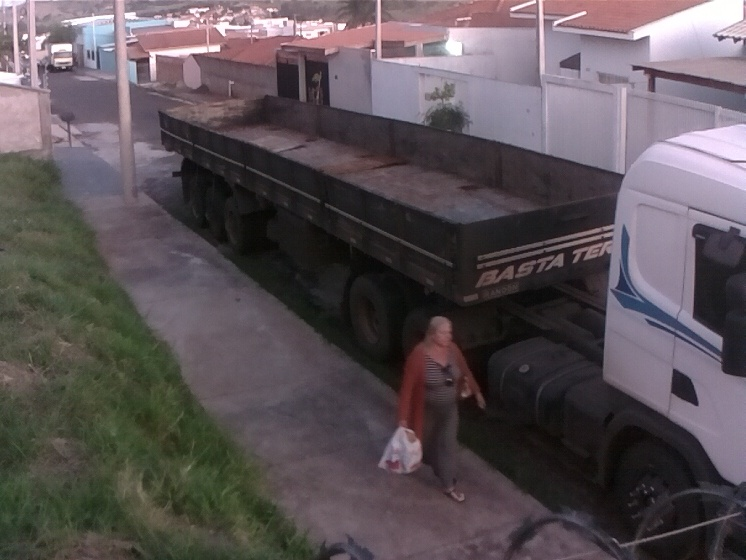person: (394, 308, 486, 506)
